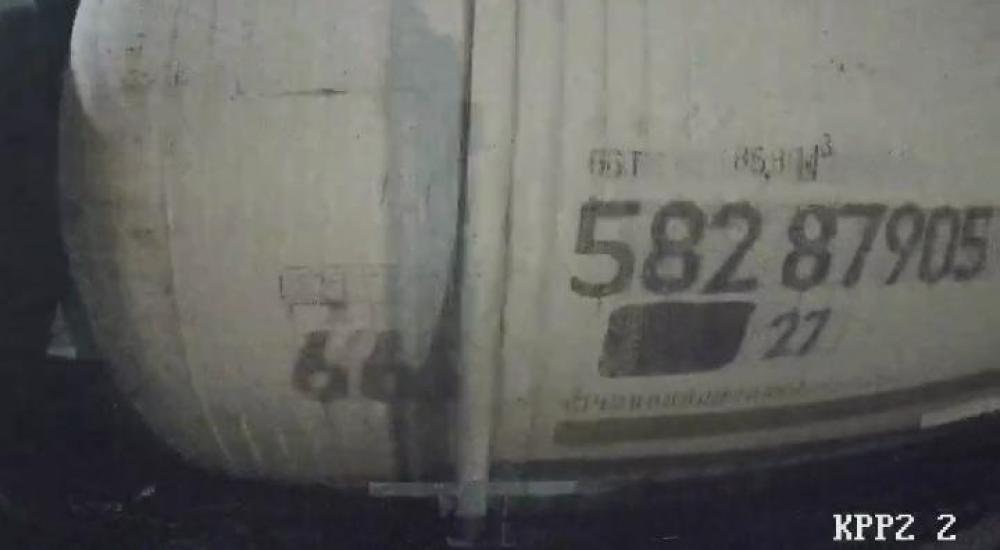Wagon-number: (564, 194, 998, 299)
